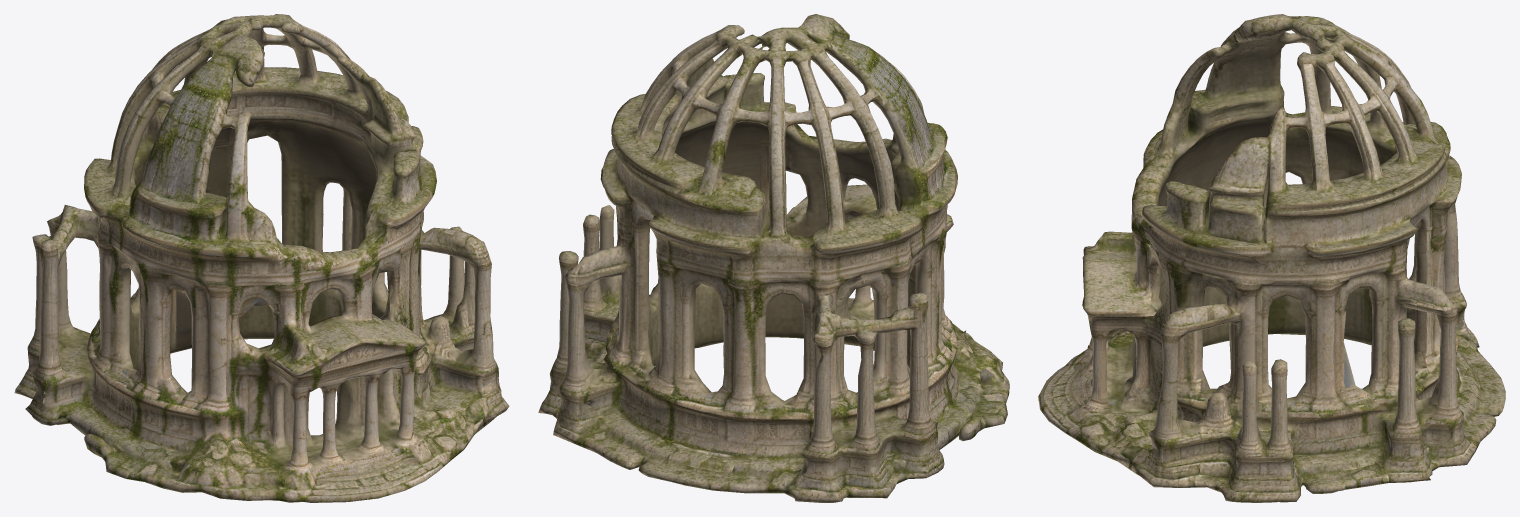
Rendered from temple.glb.
The picture shows the model from 3 angles, left to right: view 1: azimuth 30°, elevation 25°; view 2: azimuth 150°, elevation 25°; view 3: azimuth 270°, elevation 25°; orthographic projection. The views are drawn at different scales.
Visible parts, largest first — view 1: tripo_node_45408968-ab2c-4181-97ea-cf184ccbf9da; view 2: tripo_node_45408968-ab2c-4181-97ea-cf184ccbf9da; view 3: tripo_node_45408968-ab2c-4181-97ea-cf184ccbf9da.
Part boxes in pixels (x1=…): tripo_node_45408968-ab2c-4181-97ea-cf184ccbf9da: x1=14, y1=14, x2=509, y2=502; tripo_node_45408968-ab2c-4181-97ea-cf184ccbf9da: x1=538, y1=14, x2=1009, y2=502; tripo_node_45408968-ab2c-4181-97ea-cf184ccbf9da: x1=1038, y1=14, x2=1505, y2=502.
Size of the model in its own units: 0.9679 by 0.8652 by 0.9757.
Materials: 1 (1 with a texture image).
